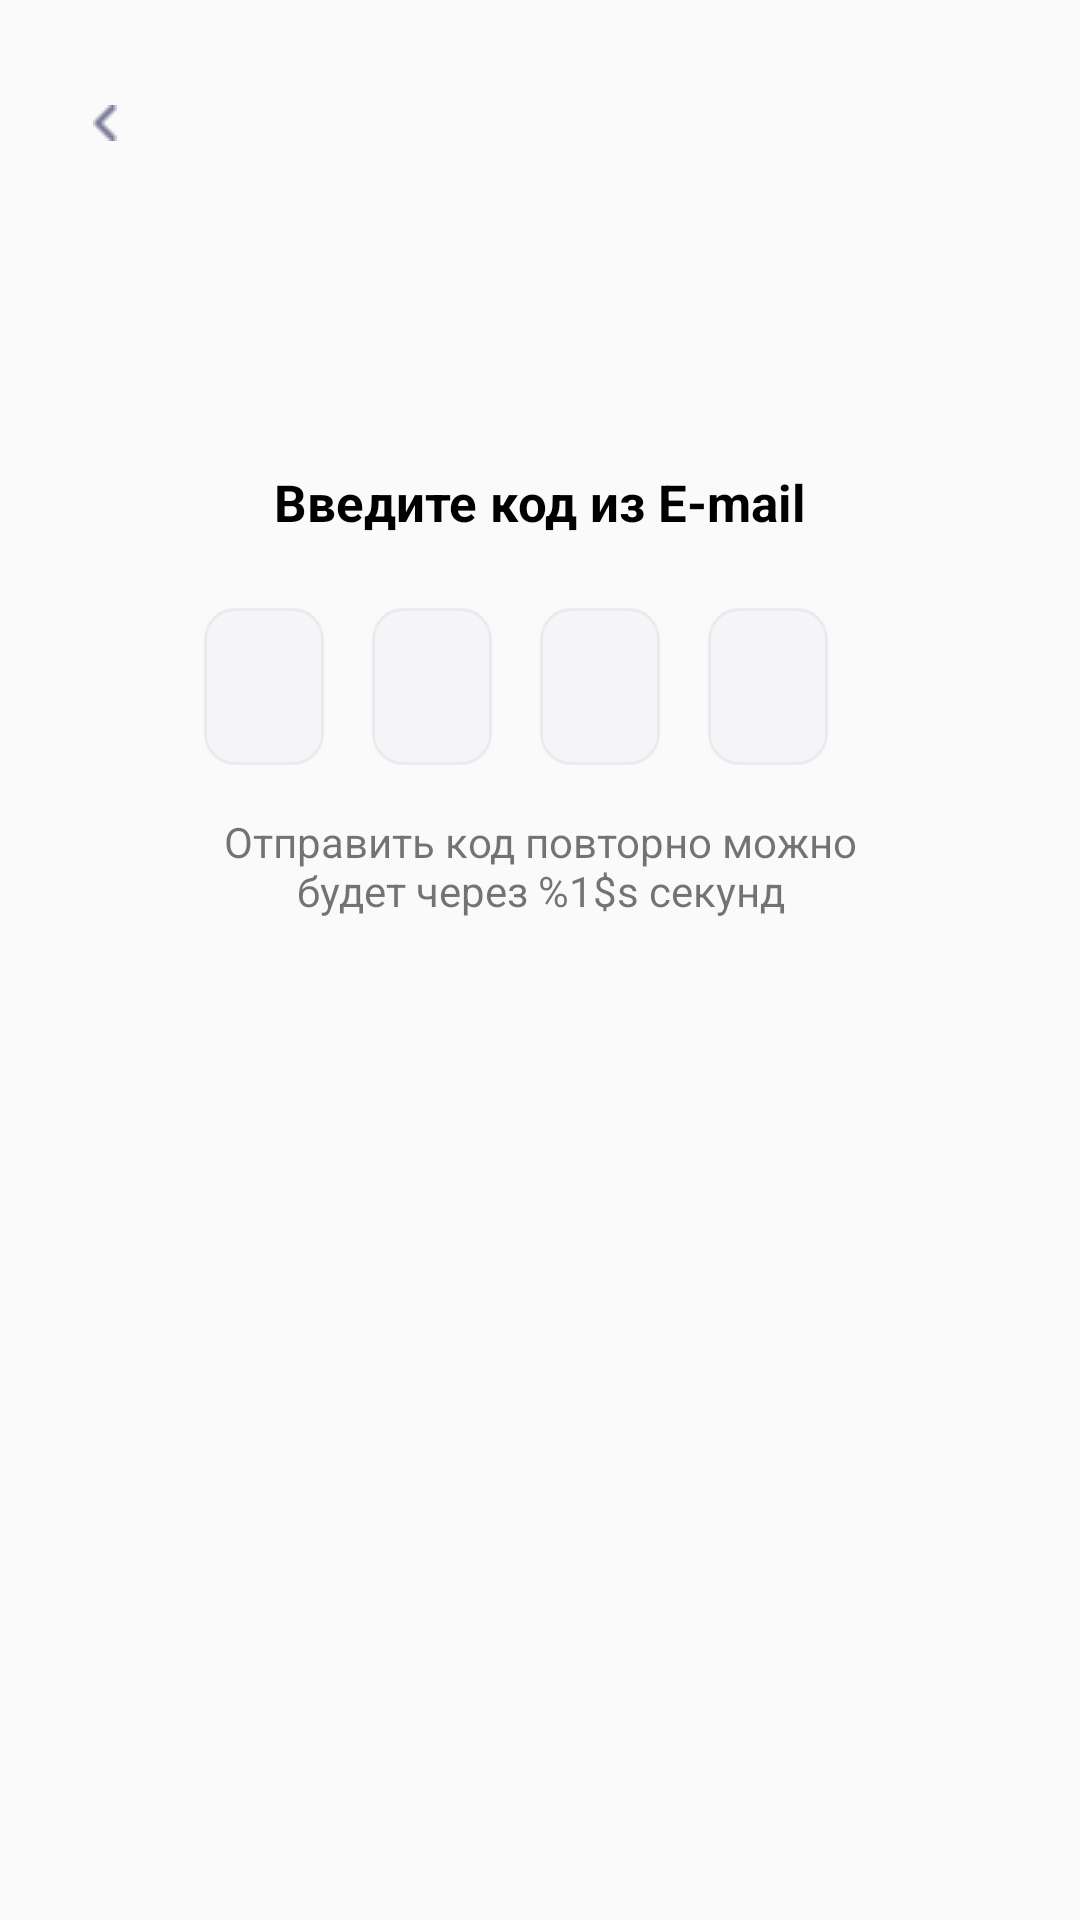

Where to tap for icons on this 1080x1920 app screen, as [x,y]:
arrow back: [105,123]
